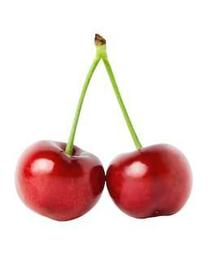cherry: (14, 140, 105, 223), (106, 144, 193, 220)
